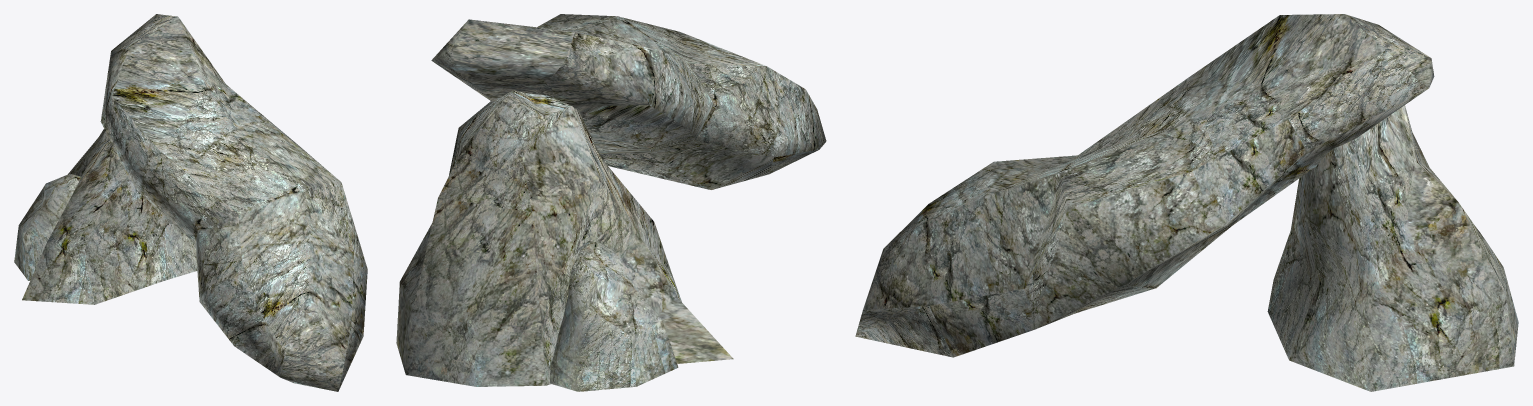
Rendered from general_obj_bigstonegate02.fbx.
The picture shows the model from 3 angles, left to right: view 1: azimuth 30°, elevation 25°; view 2: azimuth 150°, elevation 25°; view 3: azimuth 270°, elevation 25°; orthographic projection. The views are drawn at different scales.
Visible parts, largest first — view 1: Sphere01; view 2: Sphere01; view 3: Sphere01.
Boxes of the visible parts, x1,y1,x2,y2 form: Sphere01: (14, 14, 367, 391); Sphere01: (396, 14, 826, 391); Sphere01: (855, 14, 1518, 391).
Bounding box in the file's own units: 30.34 × 26.72 × 50.68.
